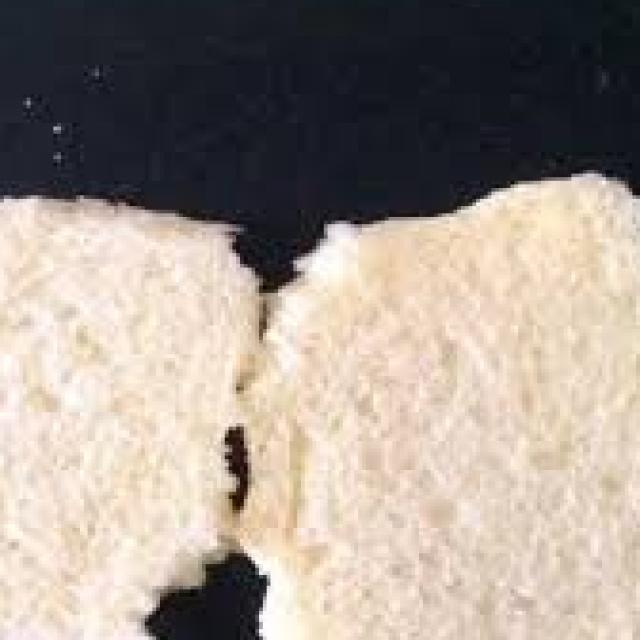inorganic: (9, 184, 626, 628)
